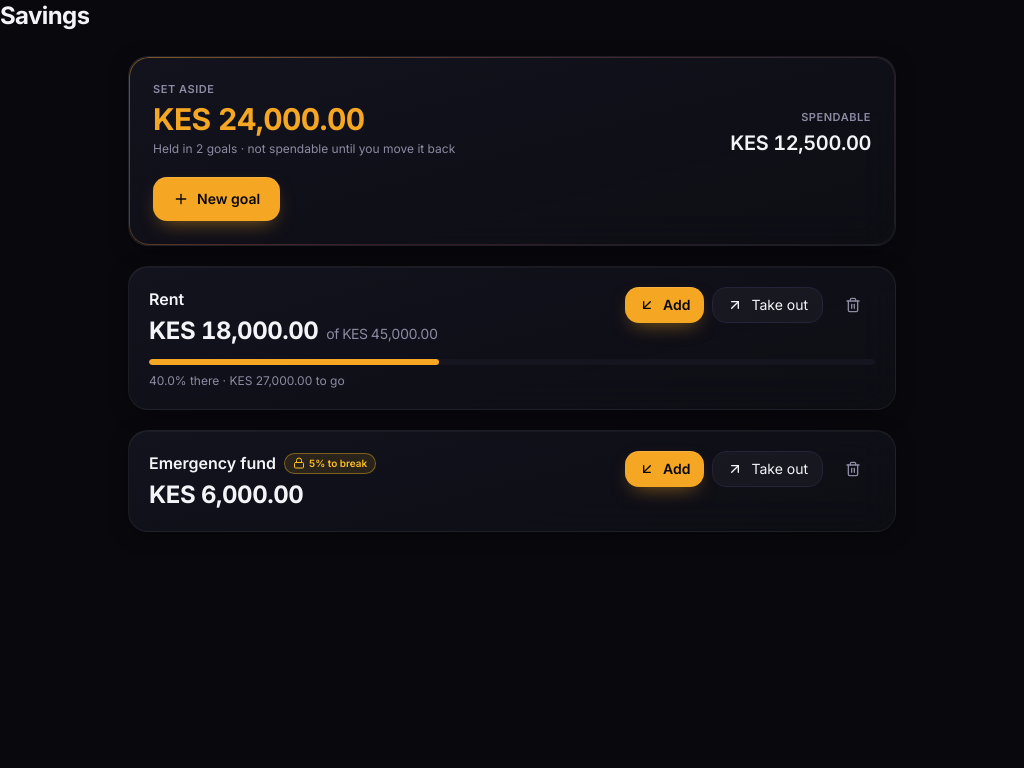
Test: Savings › moves money into a goal and reflects the new balance
Click the button "Add" in the row of "KES 18,000.00" at (665, 305), box [625, 287, 704, 323]
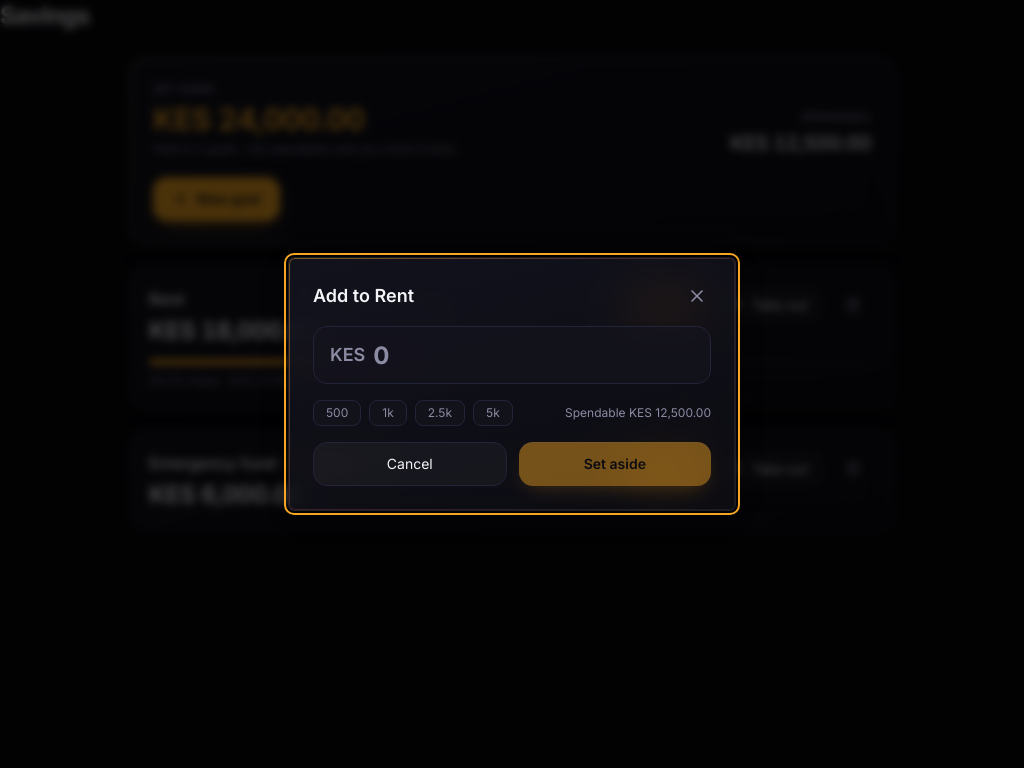
Type "2000" into the field named "amount" at (534, 355), box [373, 327, 694, 383]
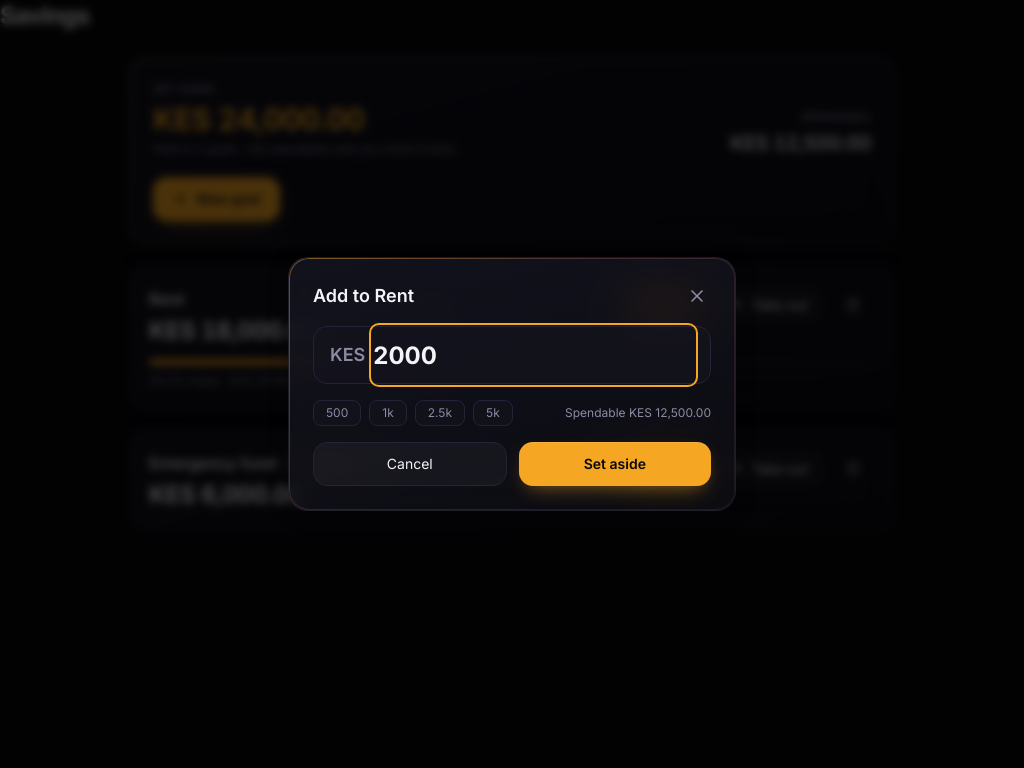
Click the button "Set aside" at (615, 464), box [519, 442, 711, 486]
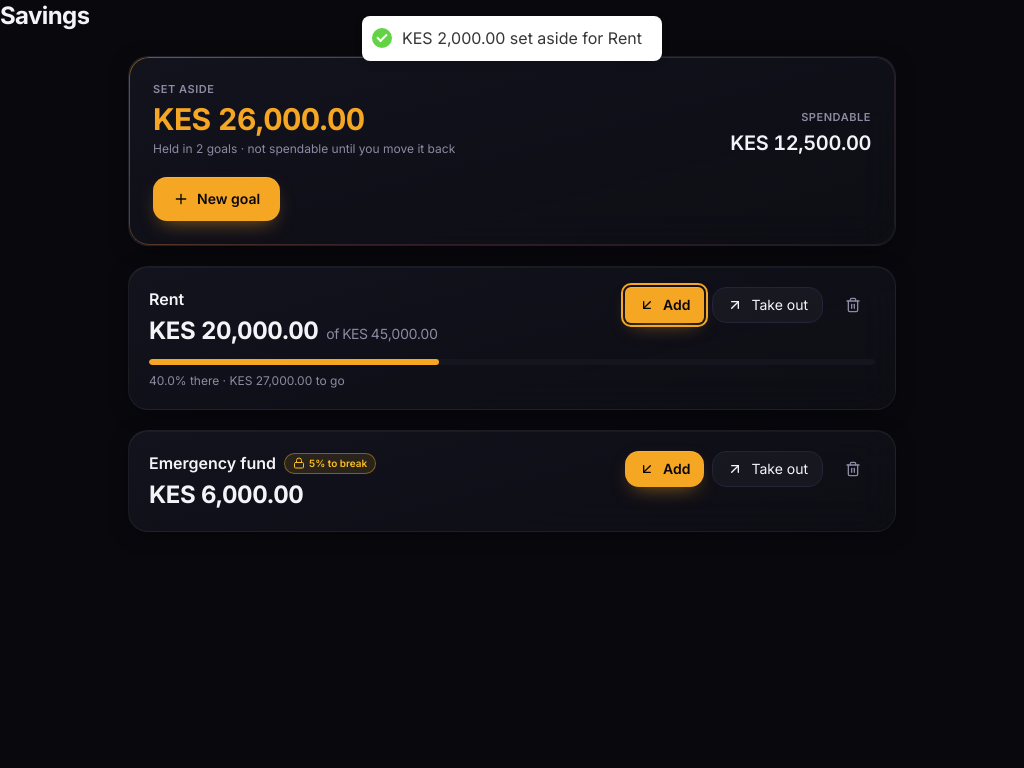
Expected: the text "KES 20,000.00of KES 45,000.00" is shown, [149, 315, 438, 347]
